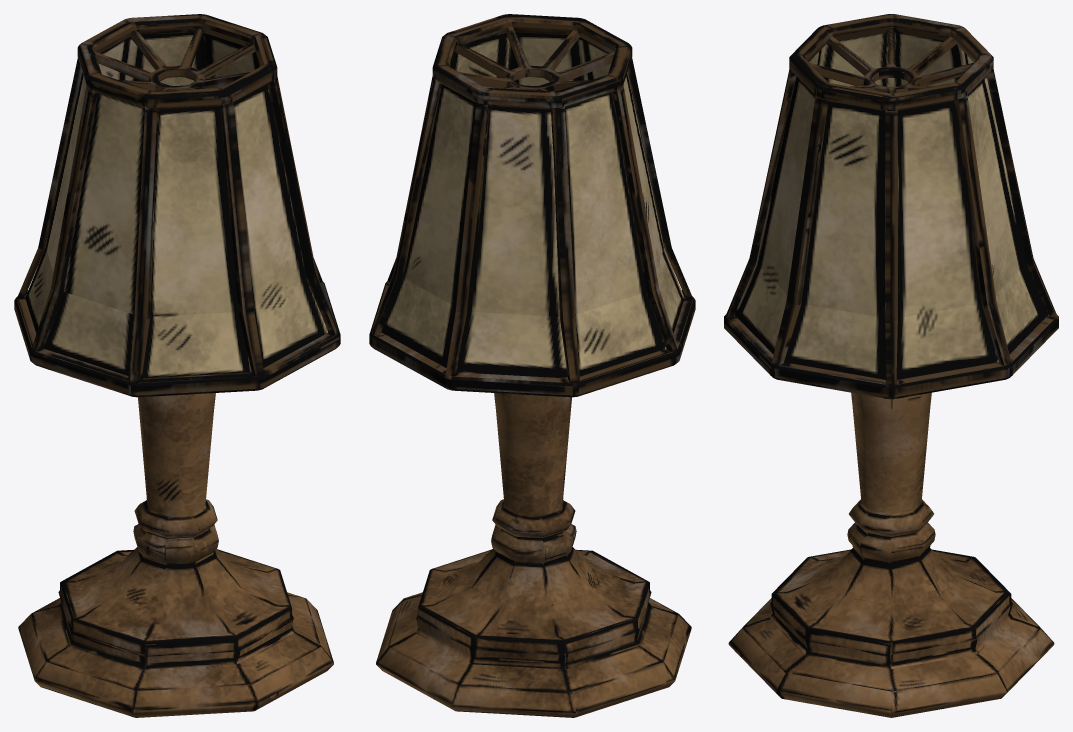
The model's file is LampDesk_OneFeet.fbx.
The picture shows the model from 3 angles, left to right: view 1: azimuth 30°, elevation 25°; view 2: azimuth 150°, elevation 25°; view 3: azimuth 270°, elevation 25°; orthographic projection.
Visible parts, largest first — view 1: Lamp_Table_Silk.001, Lamp_Table_Structure.001, Lamp_Table_Structure_Top.001; view 2: Lamp_Table_Silk.001, Lamp_Table_Structure.001, Lamp_Table_Structure_Top.001; view 3: Lamp_Table_Silk.001, Lamp_Table_Structure.001, Lamp_Table_Structure_Top.001.
Boxes of the visible parts, x1=… form: Lamp_Table_Silk.001: x1=25, y1=32, x2=328, y2=378; Lamp_Table_Structure.001: x1=18, y1=393, x2=333, y2=717; Lamp_Table_Structure_Top.001: x1=14, y1=14, x2=340, y2=397; Lamp_Table_Silk.001: x1=381, y1=32, x2=684, y2=378; Lamp_Table_Structure.001: x1=376, y1=393, x2=691, y2=717; Lamp_Table_Structure_Top.001: x1=369, y1=14, x2=695, y2=397; Lamp_Table_Silk.001: x1=735, y1=32, x2=1047, y2=379; Lamp_Table_Structure.001: x1=728, y1=392, x2=1054, y2=717; Lamp_Table_Structure_Top.001: x1=724, y1=14, x2=1058, y2=399.
Bounding box in the file's own units: 10.6 × 20.84 × 10.6.
Materials: 1 (1 with a texture image).
